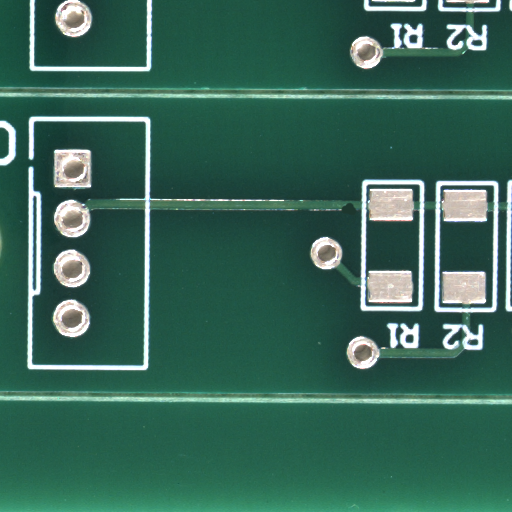Mouse_bite: (349, 208, 364, 220)
